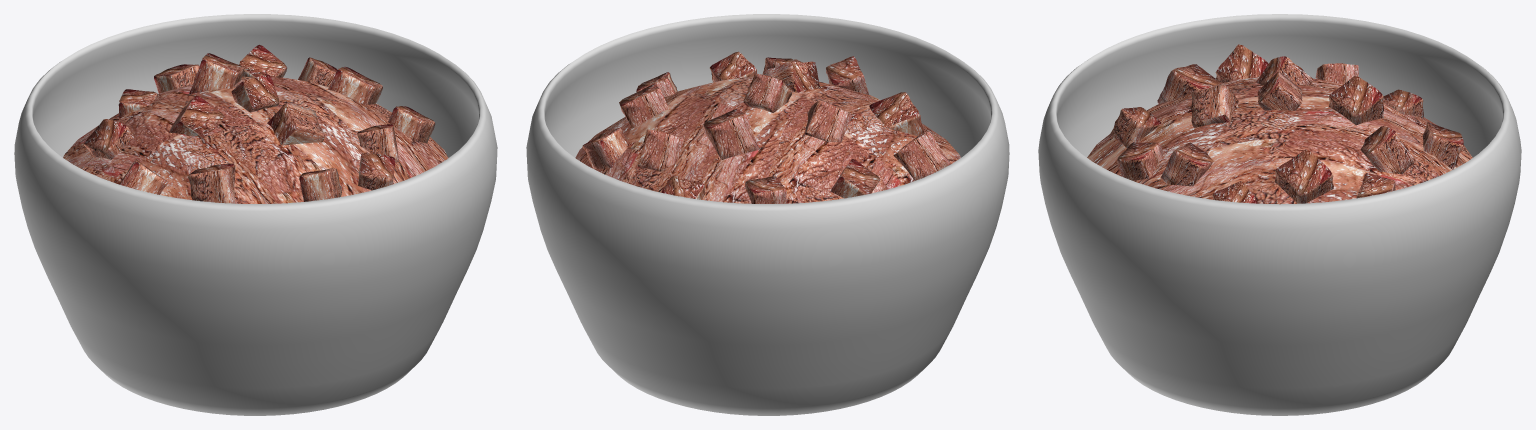
The model's file is meat_bowl.fbx.
3 views of the same model, side by side, from view 1: azimuth 30°, elevation 25°; view 2: azimuth 150°, elevation 25°; view 3: azimuth 270°, elevation 25° (orthographic).
Visible parts, largest first — view 1: Sphere, Sphere.001, meat.001, meat.004, meat, meat.010, meat.005, meat.007, meat.015, meat.013, meat.003, meat.014 (+6 smaller); view 2: Sphere, Sphere.001, meat, meat.009, meat.004, meat.010, meat.008, meat.015, meat.007, meat.012, meat.005, meat.001 (+5 smaller); view 3: Sphere, Sphere.001, meat.007, meat, meat.008, meat.001, meat.006, meat.013, meat.004, meat.003, meat.015, meat.011 (+6 smaller).
Part boxes in pixels (x1,y1,x2,y2): Sphere: (14,14,497,415); Sphere.001: (63,76,448,203); meat.001: (267,102,324,145); meat.004: (188,163,235,203); meat: (189,53,244,93); meat.010: (169,95,224,137); meat.005: (84,119,135,159); meat.007: (328,66,382,105); meat.015: (231,75,279,112); meat.013: (358,153,395,190); meat.003: (299,168,341,201); meat.014: (388,106,435,143); Sphere: (526,14,1009,415); Sphere.001: (575,76,960,203); meat: (703,109,758,159); meat.009: (893,131,950,180); meat.004: (869,92,924,135); meat.010: (804,100,851,142); meat.008: (637,129,683,171); meat.015: (743,74,791,112); meat.007: (619,83,668,128); meat.012: (582,128,629,169); meat.005: (830,159,880,198); meat.001: (763,61,820,93); Sphere: (1038,14,1521,415); Sphere.001: (1087,77,1472,204); meat.007: (1274,149,1333,203); meat: (1328,76,1383,125); meat.008: (1360,126,1415,174); meat.001: (1191,85,1238,127); meat.006: (1161,142,1214,186); meat.013: (1117,142,1163,180); meat.004: (1157,64,1221,103); meat.003: (1110,107,1161,147); meat.015: (1257,71,1302,110); meat.011: (1422,122,1463,169).
Bounding box in the file's own units: 39.86 × 24.84 × 39.86.
18 materials, 17 textured.
